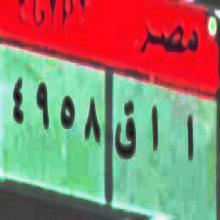4: (11, 77, 26, 128)
5: (61, 92, 74, 135)
8: (84, 97, 100, 148)
9: (34, 82, 50, 131)
alif: (180, 108, 195, 174), (147, 104, 161, 157)
qaaf: (116, 101, 136, 164)
